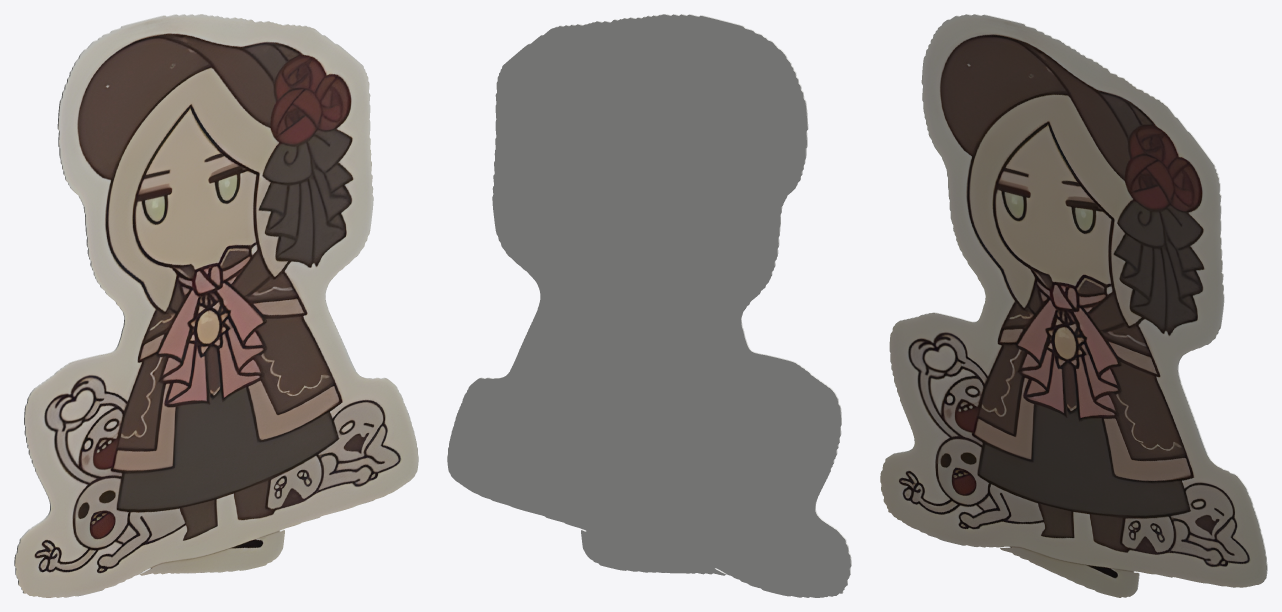
Rendered from old-26-hu-tao.glb.
3 renders of one model, left to right at view 1: azimuth 30°, elevation 25°; view 2: azimuth 150°, elevation 25°; view 3: azimuth 330°, elevation 25°, orthographic. The views are drawn at different scales.
Visible parts, largest first — view 1: old-26-hu-tao / thin printed sticker; view 2: old-26-hu-tao / thin printed sticker; view 3: old-26-hu-tao / thin printed sticker.
Boxes of the visible parts, x1,y1,x2,y2 form: old-26-hu-tao / thin printed sticker: [14, 14, 418, 597]; old-26-hu-tao / thin printed sticker: [447, 14, 851, 597]; old-26-hu-tao / thin printed sticker: [880, 14, 1267, 597].
Size of the model in its own units: 1.71 by 2.33 by 0.006.
2 materials, 1 textured.
